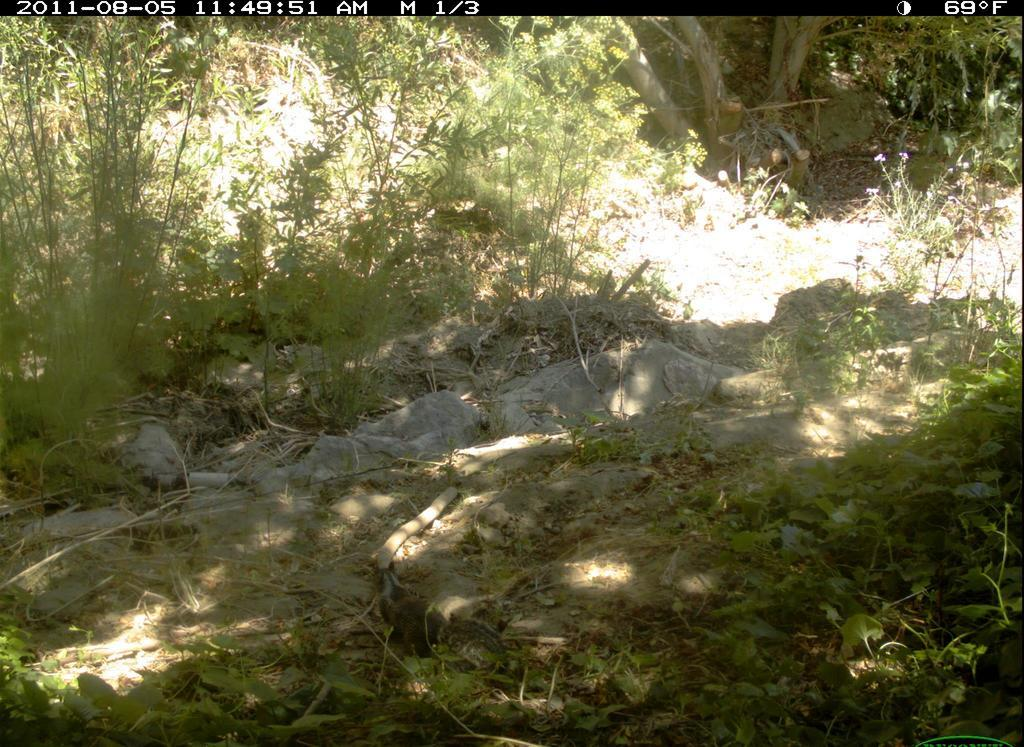squirrel: (367, 548, 527, 693)
